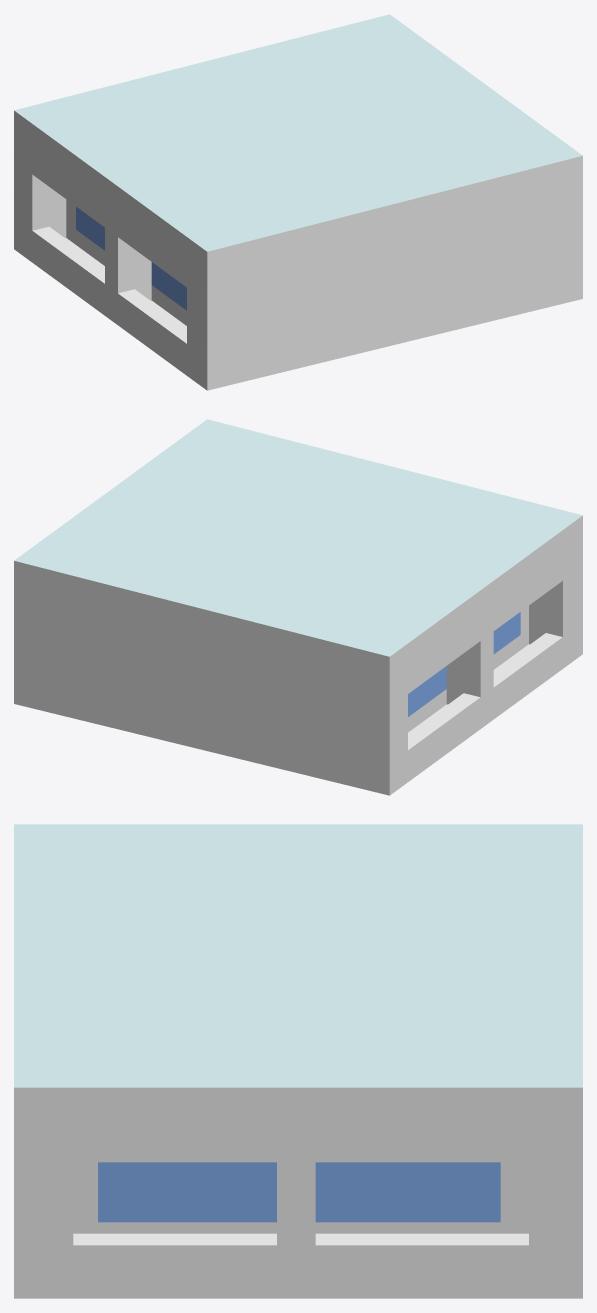
The model's file is daikyou.glb.
3 views of the same model, one above another, from view 1: azimuth 30°, elevation 25°; view 2: azimuth 150°, elevation 25°; view 3: azimuth 270°, elevation 25° (orthographic). The views are drawn at different scales.
Parts seen in each view (by area): view 1: 大教室; view 2: 大教室; view 3: 大教室.
Part boxes in pixels (x1,y1,x2,y2): 大教室: [14, 14, 582, 390]; 大教室: [14, 419, 582, 795]; 大教室: [14, 824, 582, 1298].
Bounding box in the file's own units: 4.55 × 1.66 × 4.06.
Materials: 1 (1 with a texture image).
